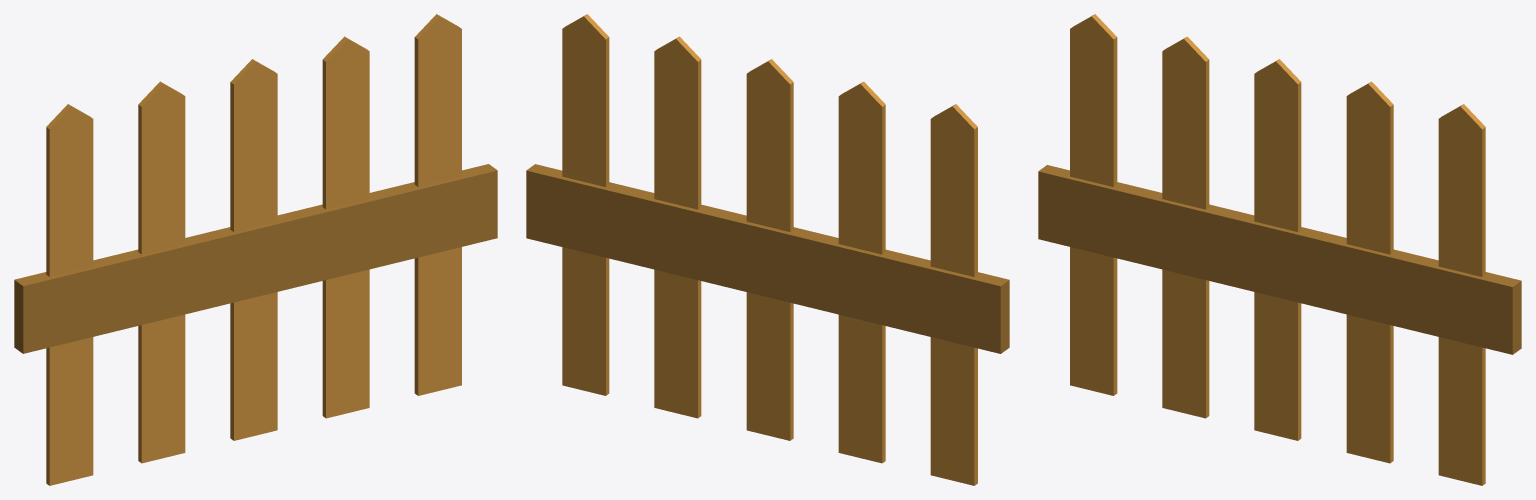
The model's file is Fence.fbx.
3 renders of one model, left to right at view 1: azimuth 30°, elevation 25°; view 2: azimuth 150°, elevation 25°; view 3: azimuth 330°, elevation 25°, orthographic.
Parts seen in each view (by area): view 1: Plane.001; view 2: Plane.001; view 3: Plane.001.
Boxes of the visible parts, x1,y1,x2,y2 form: Plane.001: [14, 14, 497, 485]; Plane.001: [526, 14, 1009, 485]; Plane.001: [1038, 14, 1521, 485].
Size of the model in its own units: 157 by 118 by 5.11.
